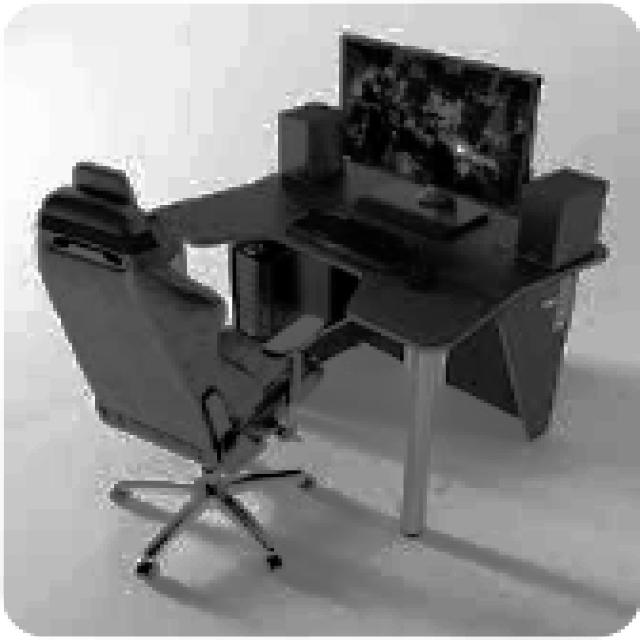book: (34, 159, 328, 576)
table: (144, 155, 606, 538)
